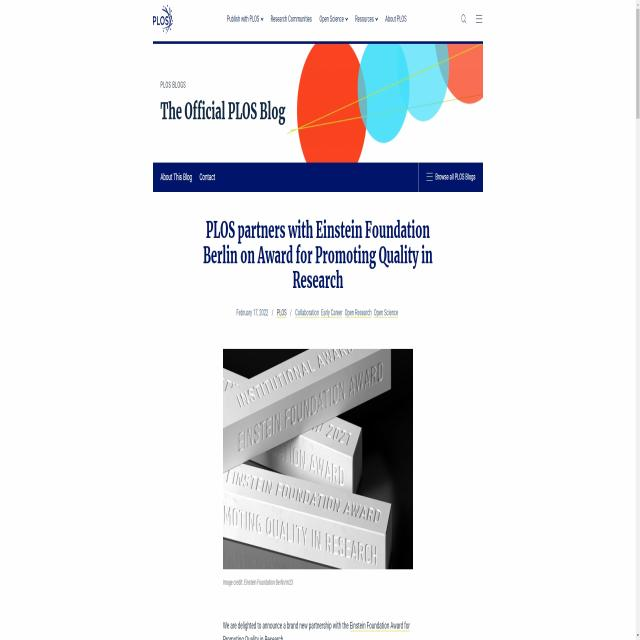menu-bar: (458, 7, 485, 33)
search: (460, 12, 468, 28)
tab-bar: (225, 6, 409, 32), (158, 169, 220, 186)
